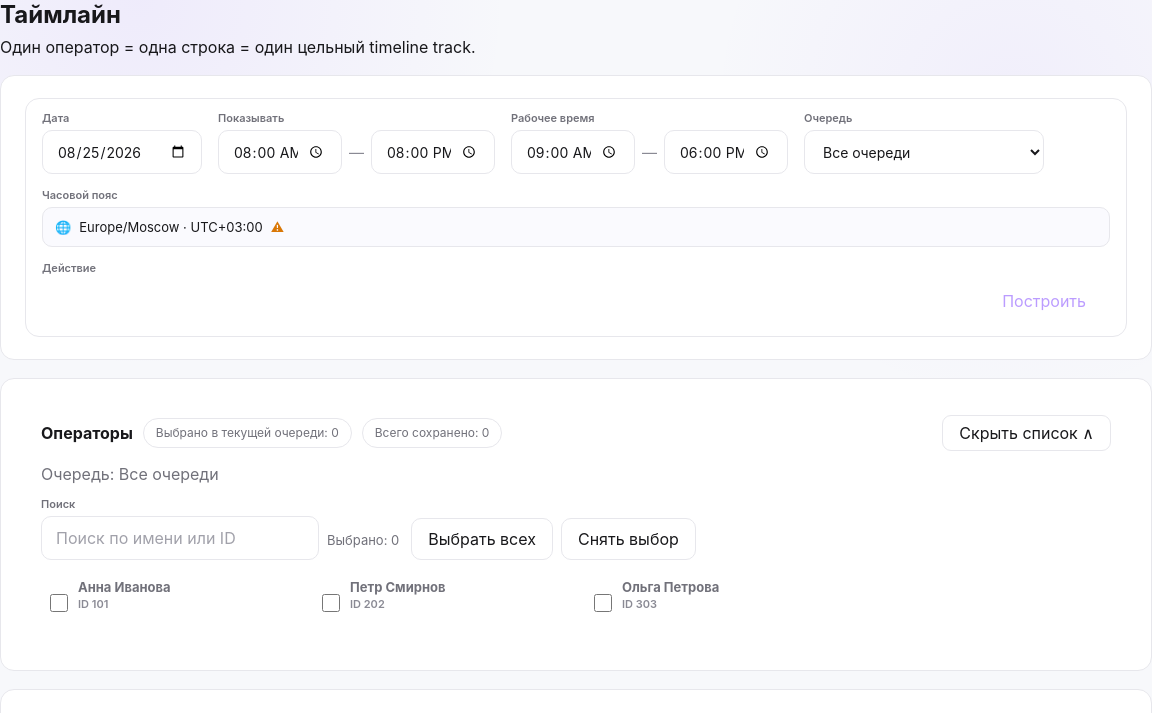
it: TimelinePage component behavior › collapses and expands operator panel via disclosure control
Expected: the text "Анна Иванова" is shown, [78,579,170,595]
Click the button "Скрыть список ∧" at [1027, 433], box [942,415,1111,451]
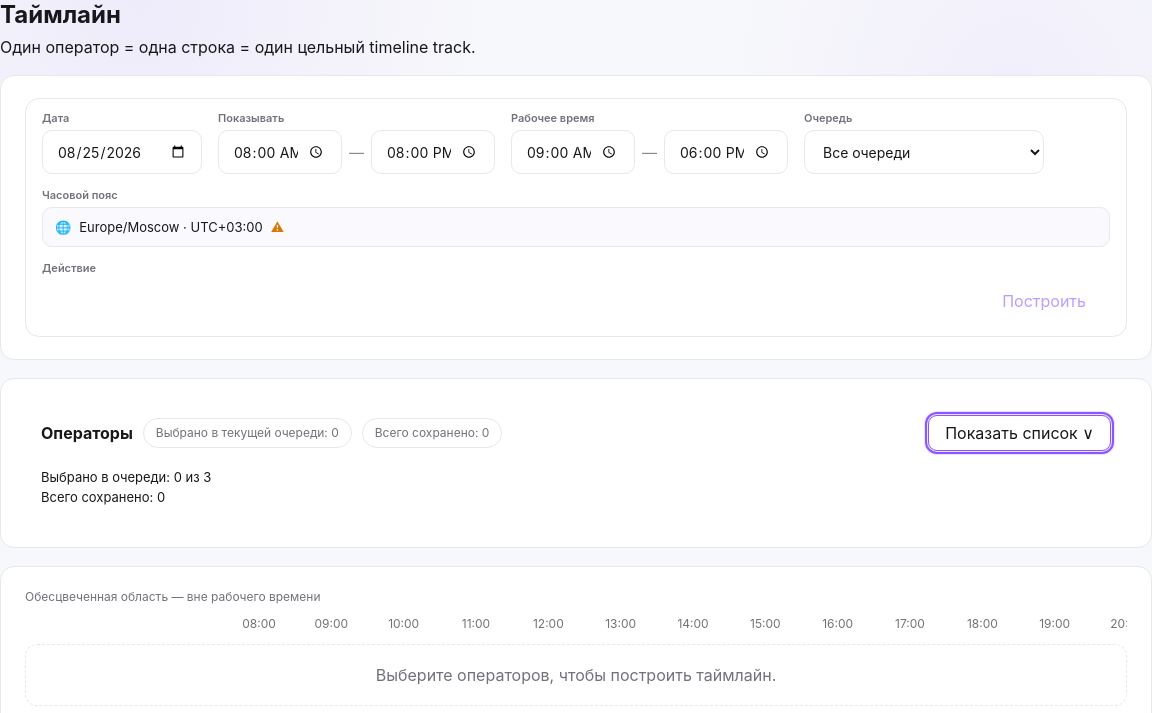
Expected: the button "Показать список ∨" is collapsed
Click the button "Показать список ∨" at [1020, 433], box [928,415,1111,451]
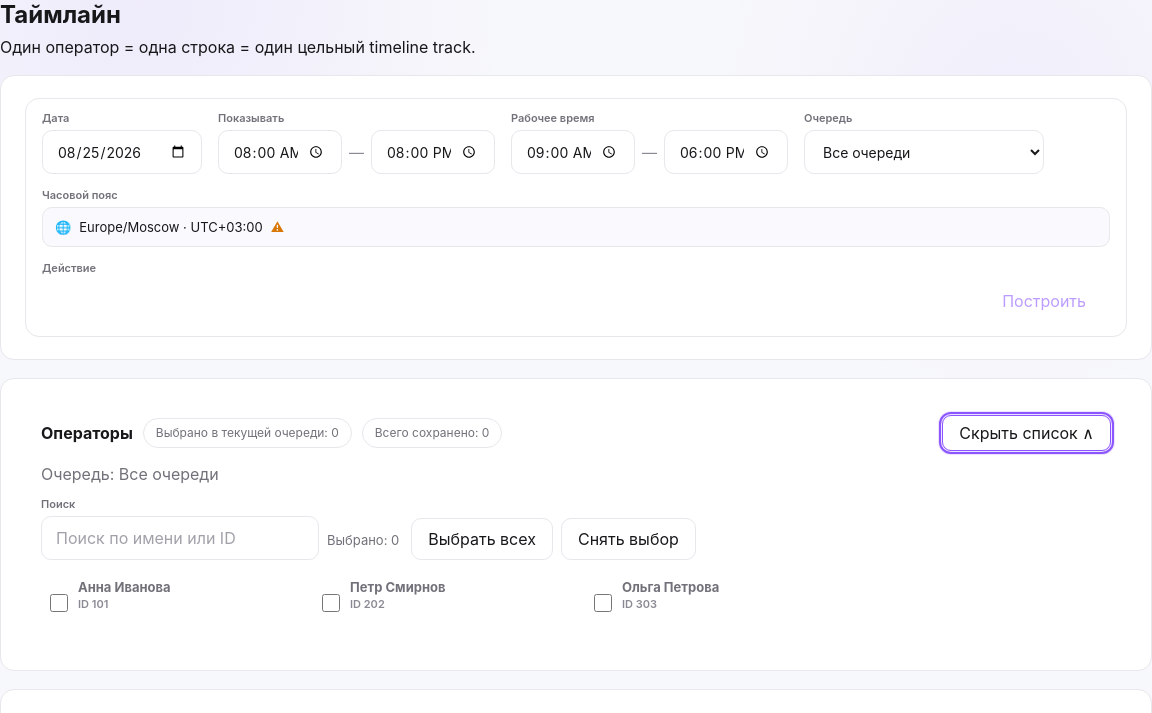
Expected: the element with test id "timeline-operators-content" is shown, [25,463,1127,648]
